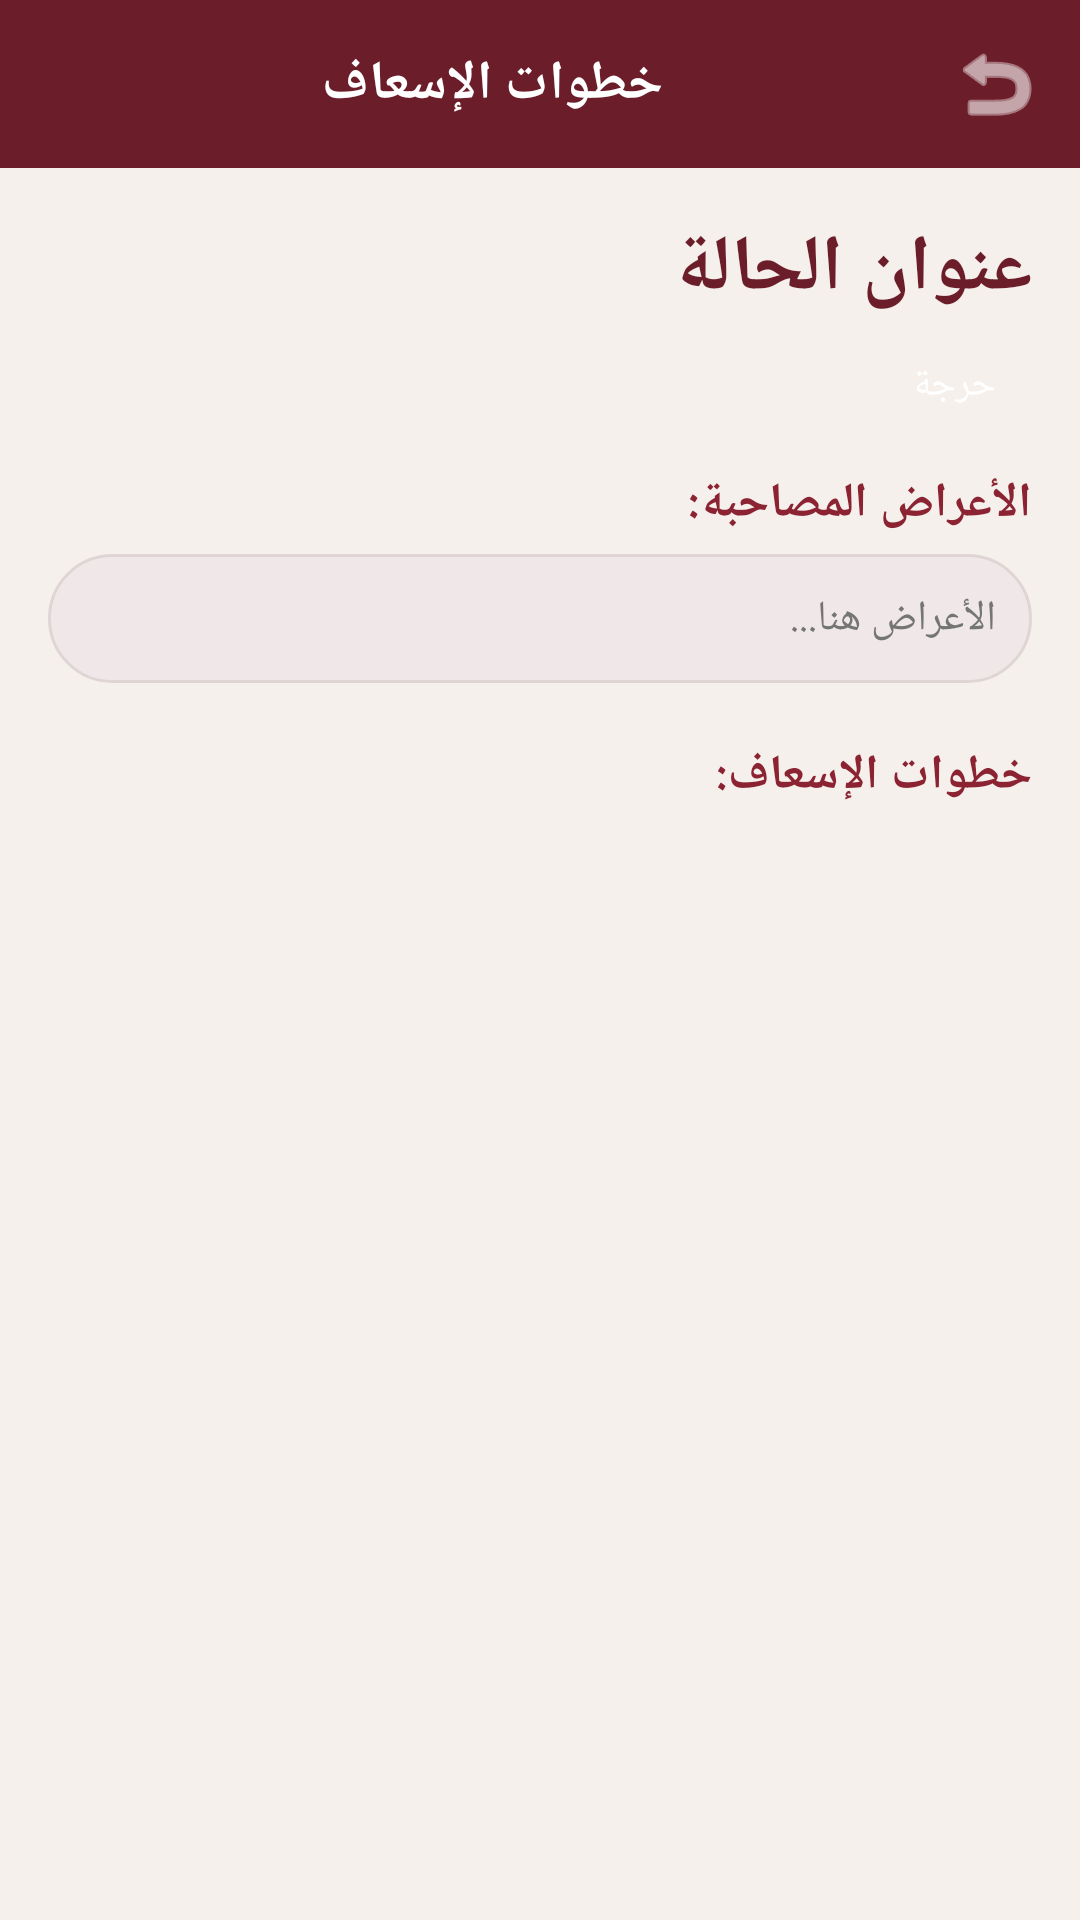

Named icons in this screenshot (1080 x 1920) and their centers, (x=x, y=y):
revert: (x=997, y=84)
